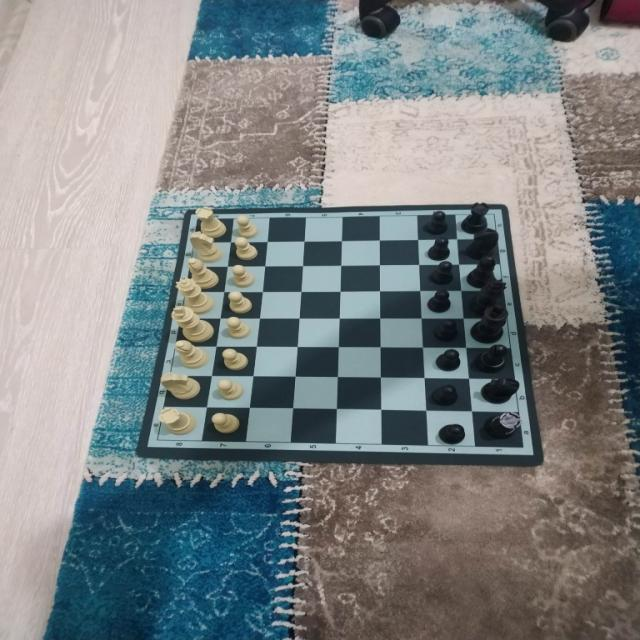chess-table-corners: (514, 440, 532, 452), (150, 434, 166, 446), (486, 210, 501, 219), (191, 214, 204, 224)
